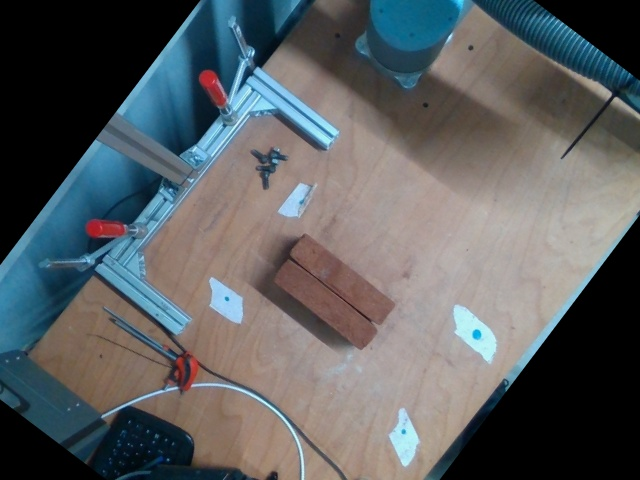brick-side: (288, 234, 394, 323), (273, 260, 379, 349)
